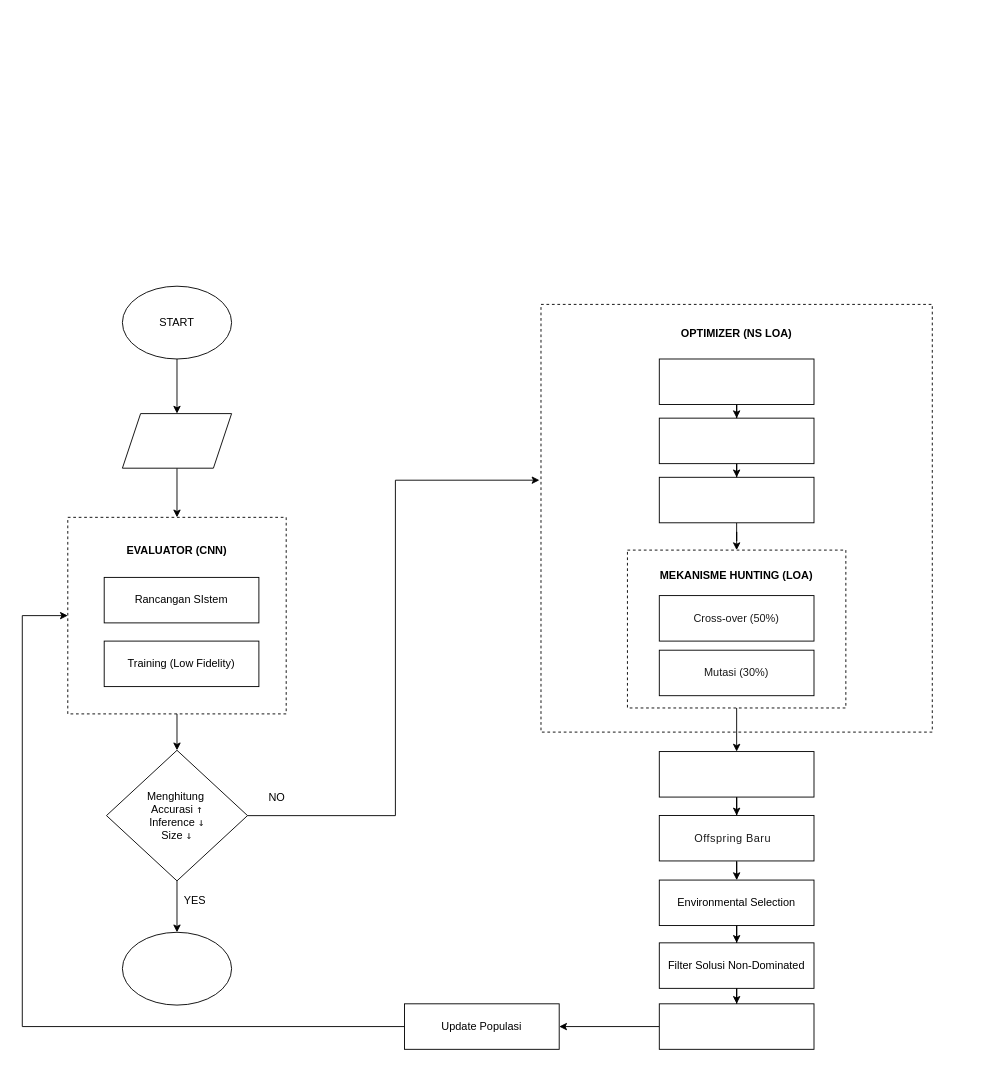
Image size: 985x1066. Some labels were removed from this diagram. The centre of each missing label's shape, as x and y in pixels:
"Boundary Handling" belongs at [736,774].
"Crowding Distance" belongs at [736,499].
"Dataset" belongs at [176,440].
"FINISH" belongs at [176,968].
"Inisialisasi Populasi Dengan Diversifikasi Awal" belongs at [736,381].
"Non-Dominated Sorting" belongs at [736,440].
"Verifikasi Batas Latensi & Ukuran" belongs at [736,1026].
